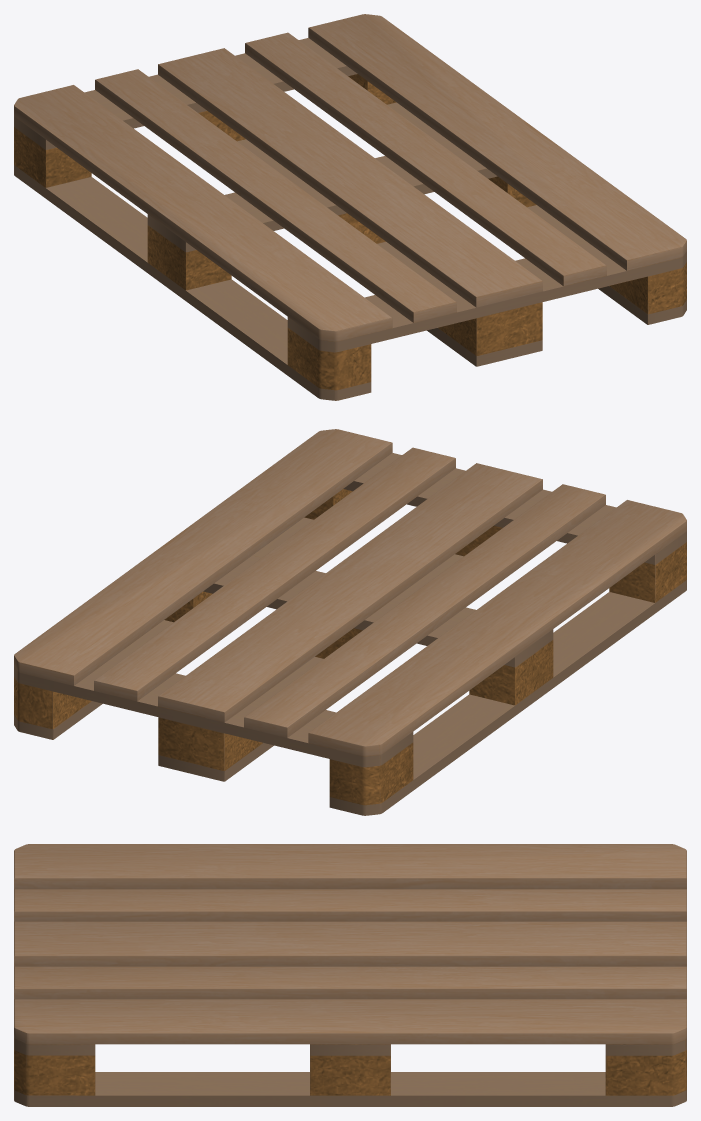
The model's file is Pallet.glb.
The picture shows the model from 3 angles, top to bottom: view 1: azimuth 30°, elevation 25°; view 2: azimuth 150°, elevation 25°; view 3: azimuth 270°, elevation 25°; orthographic projection. The views are drawn at different scales.
Parts seen in each view (by area): view 1: Euro Pallet.001_0; view 2: Euro Pallet.001_0; view 3: Euro Pallet.001_0.
Part boxes in pixels (x1,y1,x2,y2): Euro Pallet.001_0: (14,14,686,400); Euro Pallet.001_0: (14,429,686,815); Euro Pallet.001_0: (14,844,686,1106).
Size of the model in its own units: 0.8 by 0.145 by 1.2.
1 material, 1 textured.
